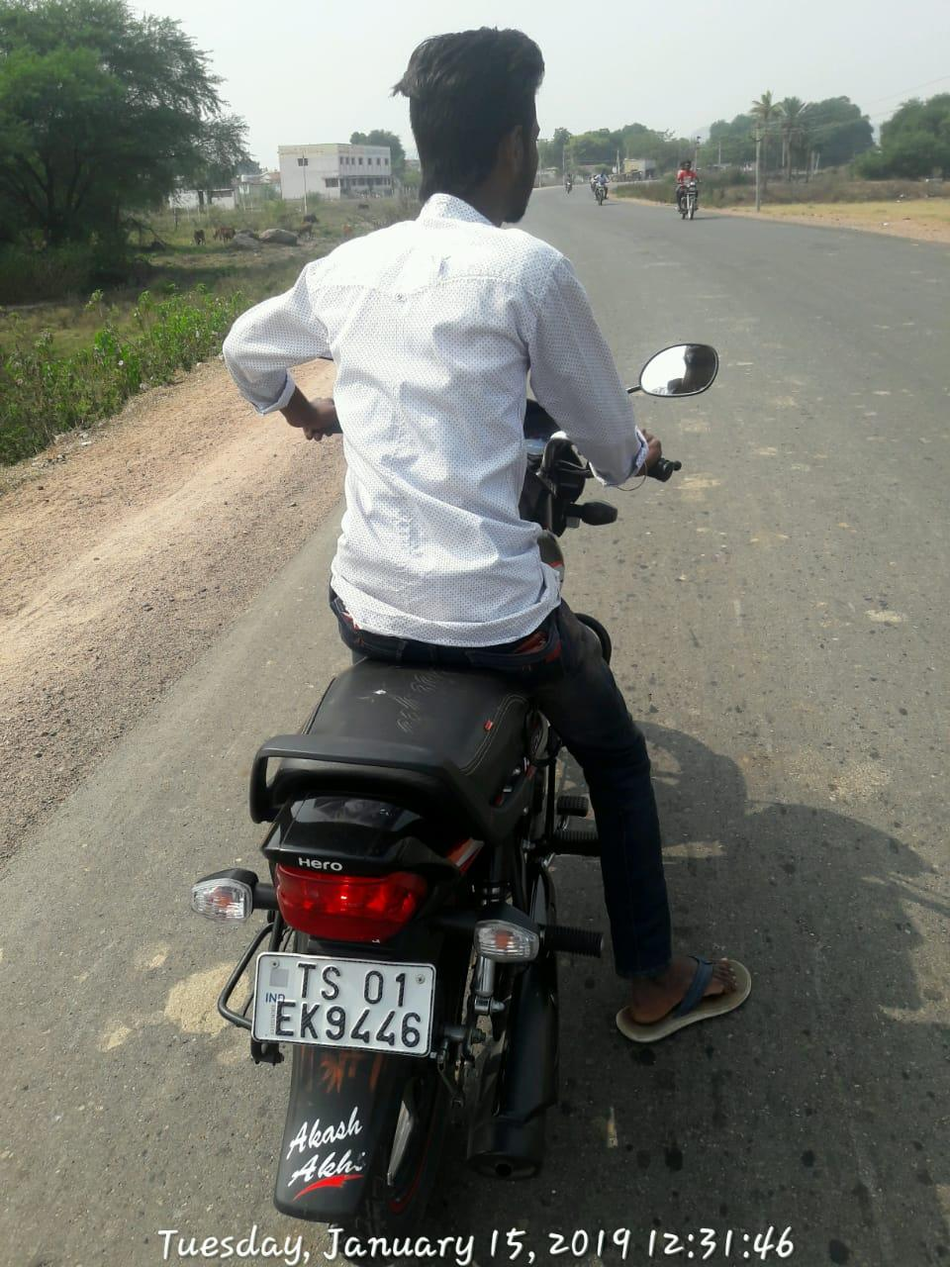plate: (239, 945, 445, 1067)
